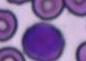L: (22, 22, 66, 60)
